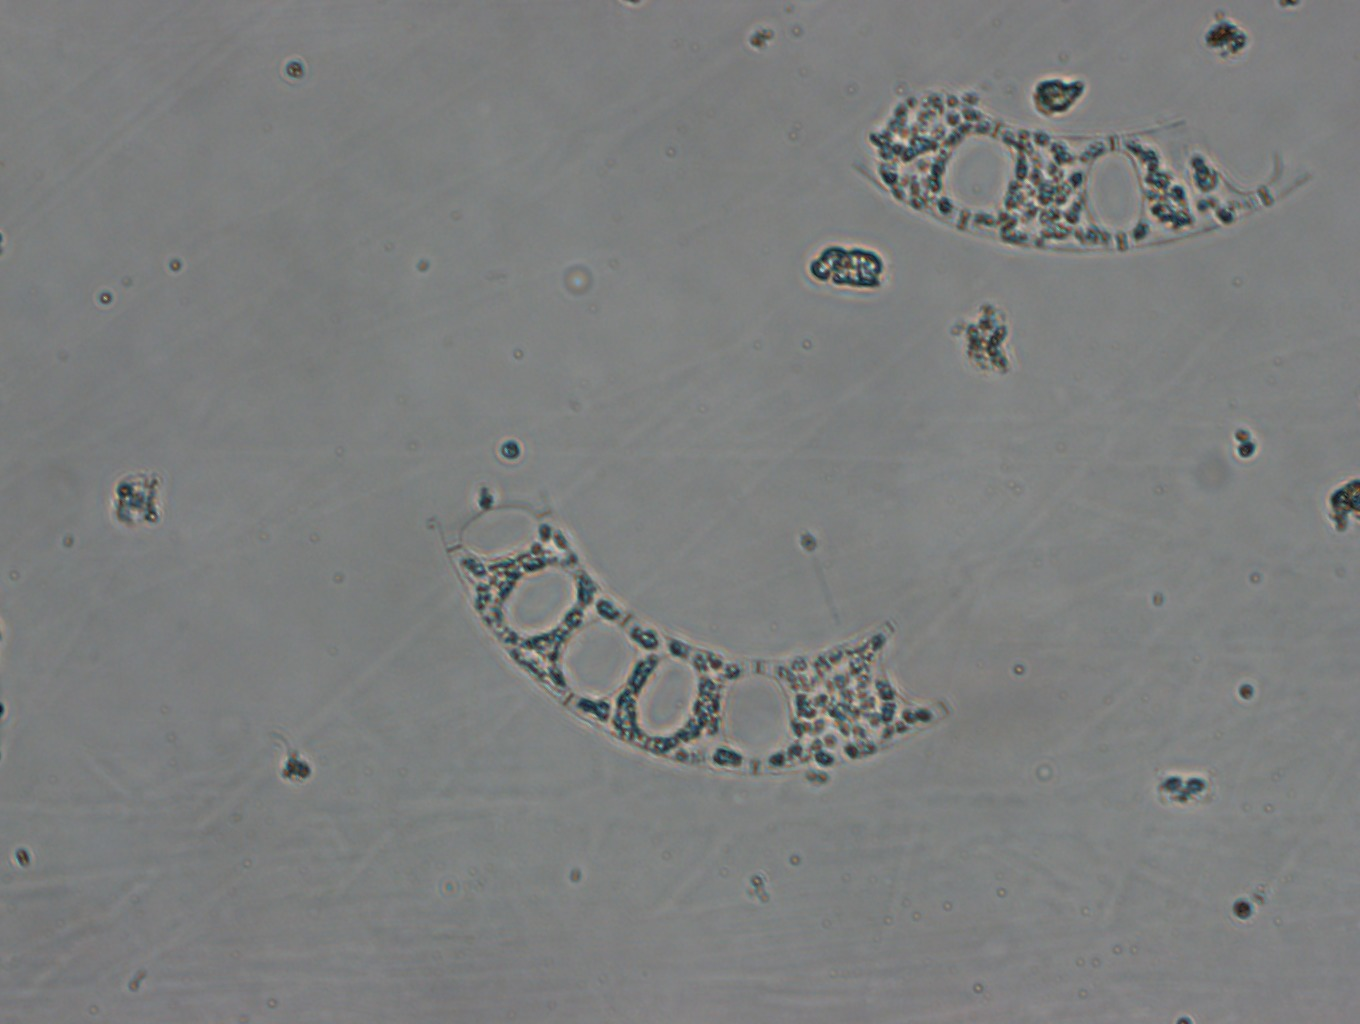eucampia: (440, 496, 950, 776), (845, 85, 1317, 252)
